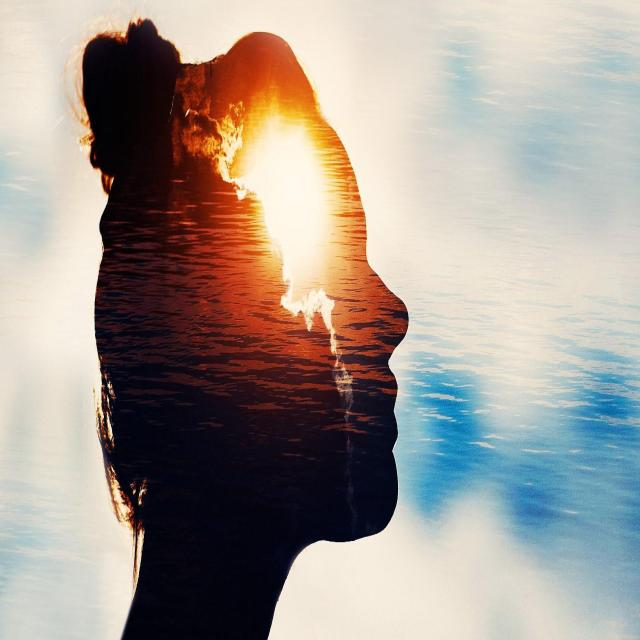other: (206, 80, 359, 351)
